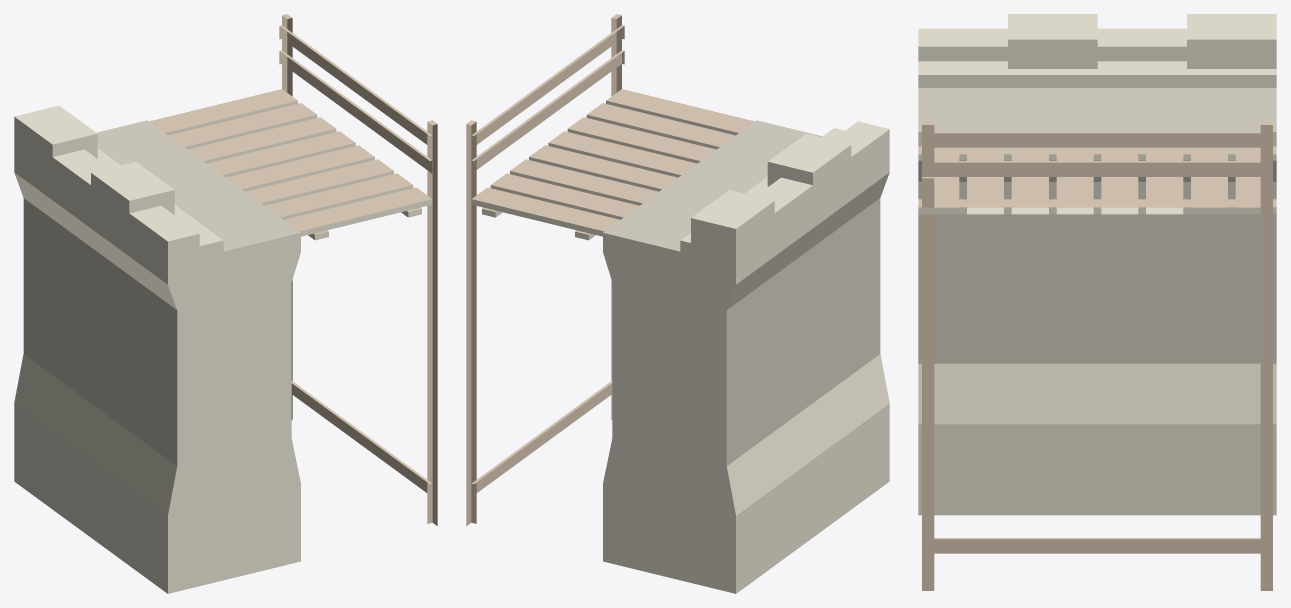
Rendered from wallNarrowWoodFence.glb.
3 renders of one model, left to right at view 1: azimuth 30°, elevation 25°; view 2: azimuth 150°, elevation 25°; view 3: azimuth 270°, elevation 25°, orthographic. The views are drawn at different scales.
Parts seen in each view (by area): view 1: wallNarrowWoodFence, bridge 6; view 2: wallNarrowWoodFence, bridge 6; view 3: wallNarrowWoodFence, bridge 6.
Part boxes in pixels (x1=…): wallNarrowWoodFence: x1=14, y1=105, x2=300, y2=593; bridge 6: x1=149, y1=14, x2=437, y2=525; wallNarrowWoodFence: x1=603, y1=120, x2=889, y2=593; bridge 6: x1=466, y1=14, x2=754, y2=525; wallNarrowWoodFence: x1=918, y1=14, x2=1276, y2=515; bridge 6: x1=918, y1=121, x2=1276, y2=590.
Size of the model in its own units: 10.2 by 14.44 by 10.
